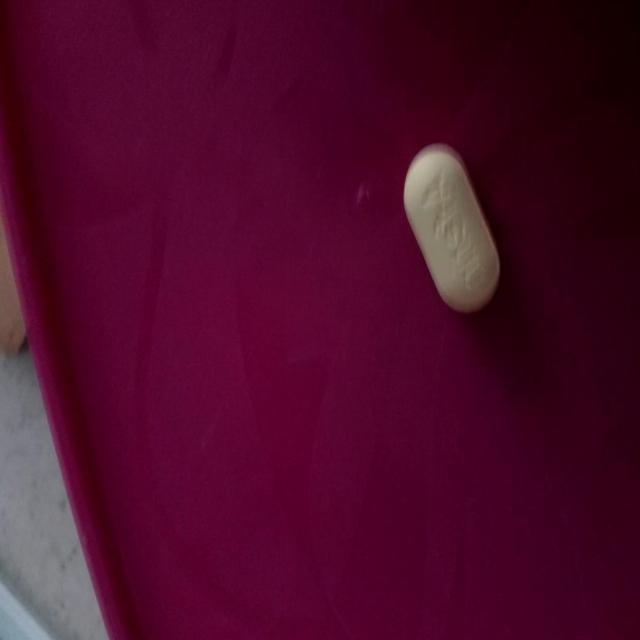pill: (400, 147, 507, 307)
